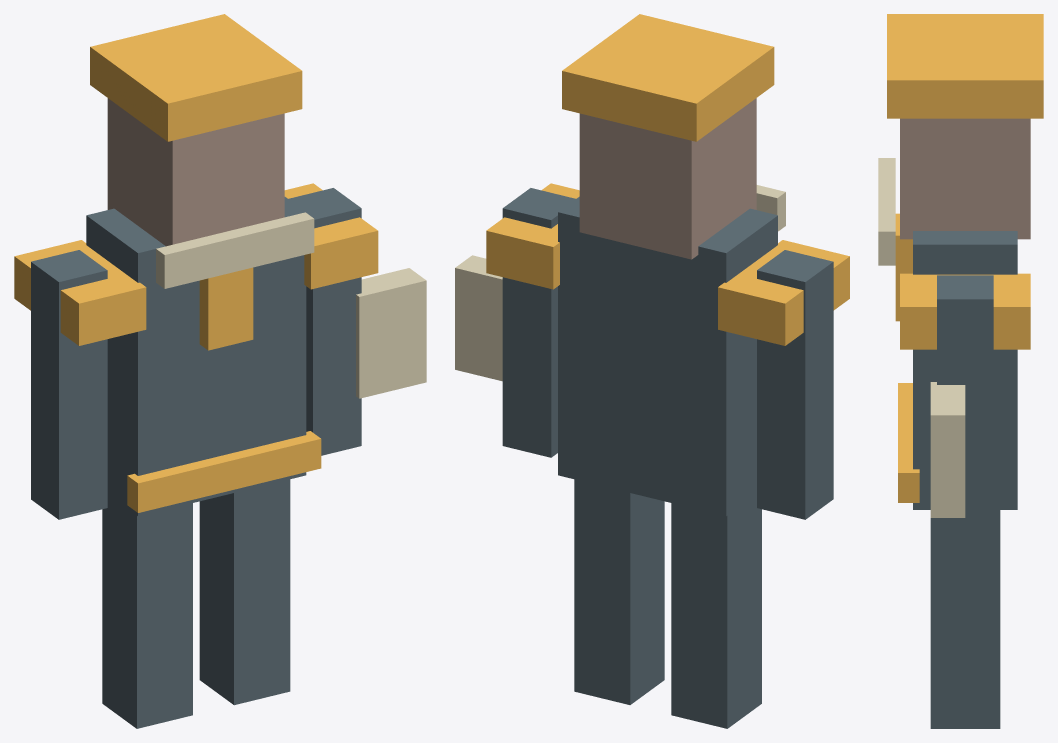
Rendered from 15_lyric_deepwell_custodian_of_revision.glb.
3 renders of one model, left to right at view 1: azimuth 30°, elevation 25°; view 2: azimuth 150°, elevation 25°; view 3: azimuth 270°, elevation 25°, orthographic.
Visible parts, largest first — view 1: Lyric Deepwell, Custodian of Revision; view 2: Lyric Deepwell, Custodian of Revision; view 3: Lyric Deepwell, Custodian of Revision.
Boxes of the visible parts, x1,y1,x2,y2 form: Lyric Deepwell, Custodian of Revision: [14, 14, 426, 728]; Lyric Deepwell, Custodian of Revision: [455, 14, 849, 728]; Lyric Deepwell, Custodian of Revision: [878, 14, 1043, 728].
Bounding box in the file's own units: 0.9631 × 1.61 × 0.3753.
